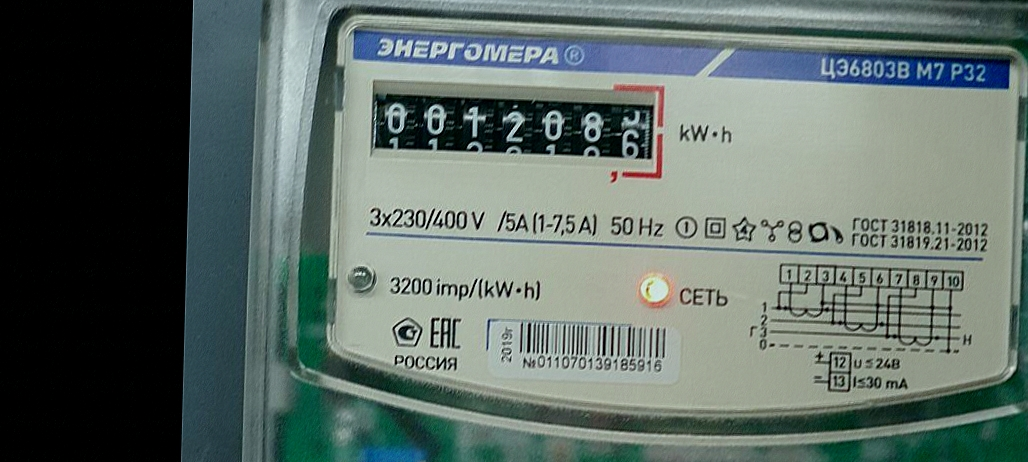0: (540, 105, 566, 141), (423, 98, 447, 135), (385, 97, 406, 134)
1: (464, 101, 482, 138)
2: (501, 107, 528, 143)
6: (617, 123, 641, 159)
8: (579, 107, 603, 144)
screen: (359, 66, 674, 192)
